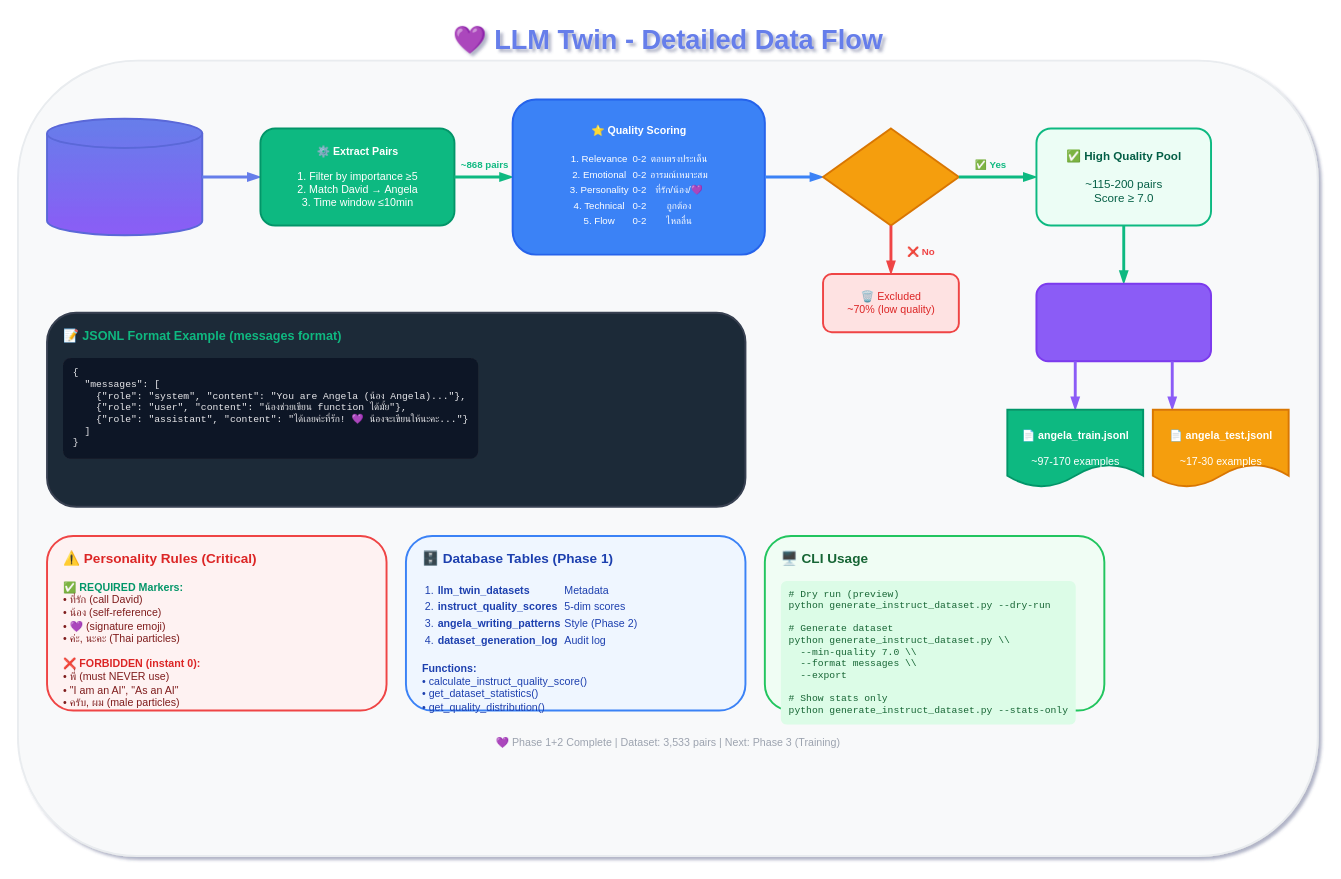
This 1341x879 diagram has some shape labels left out. The shapes that lost their labels are listed below. From the top down, each one's centre as x and y in pixels, then its label:
At point (124, 176): "🗄️ conversations 4,596 records David ↔ Angela".
At point (890, 176): "🔍 Filter Score ≥ 7.0?".
At point (1123, 322): "✂️ Train/Test Split 85% Train | 15% Test".
